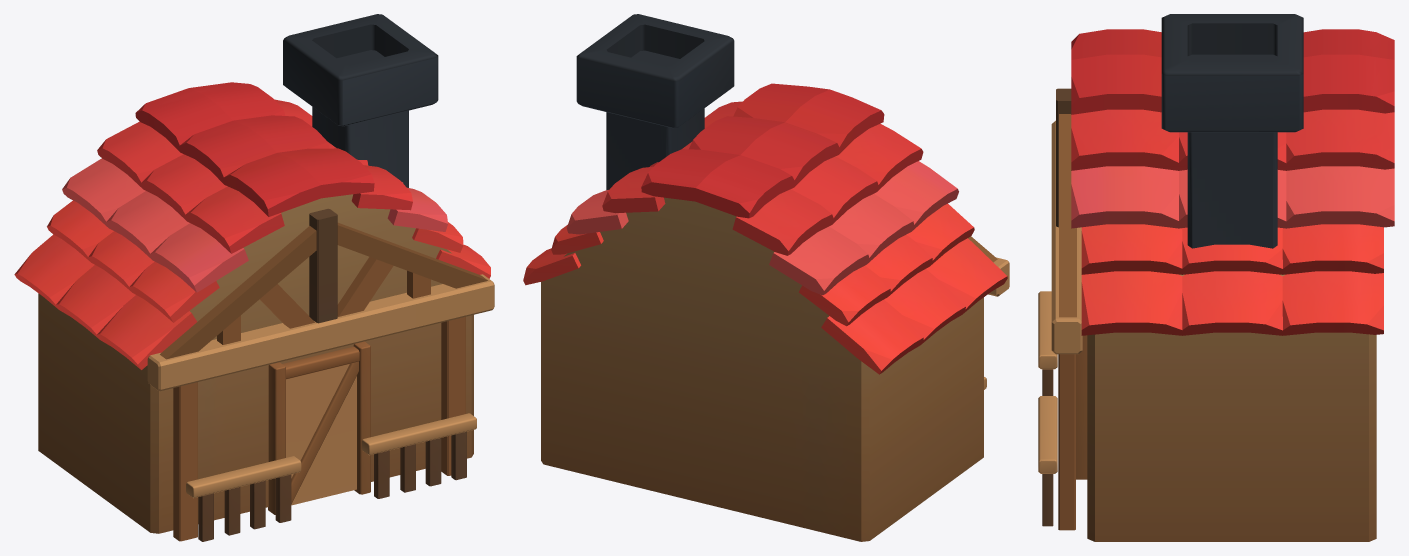
The model's file is house-01.glb.
The picture shows the model from 3 angles, left to right: view 1: azimuth 30°, elevation 25°; view 2: azimuth 150°, elevation 25°; view 3: azimuth 270°, elevation 25°; orthographic projection. The views are drawn at different scales.
Parts seen in each view (by area): view 1: house 01; view 2: house 01; view 3: house 01.
Boxes of the visible parts, x1,y1,x2,y2 form: house 01: (14, 14, 494, 541); house 01: (523, 14, 1009, 541); house 01: (1038, 14, 1394, 541).
Bounding box in the file's own units: 3.32 × 3.4 × 2.32.
Materials: 1 (1 with a texture image).
